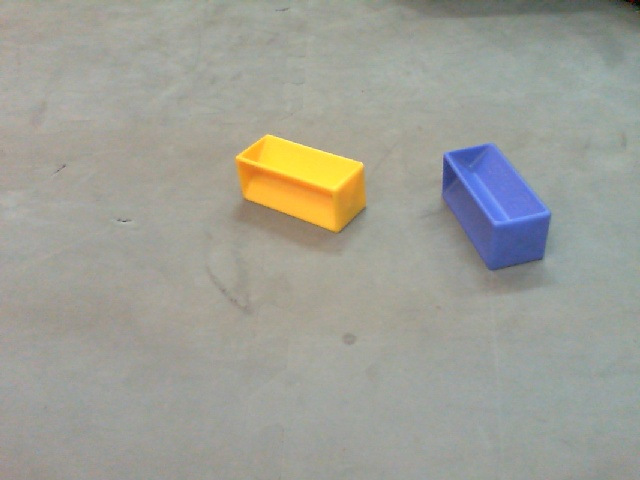BlueSample: (439, 139, 555, 271)
YellowSample: (233, 130, 374, 233)
